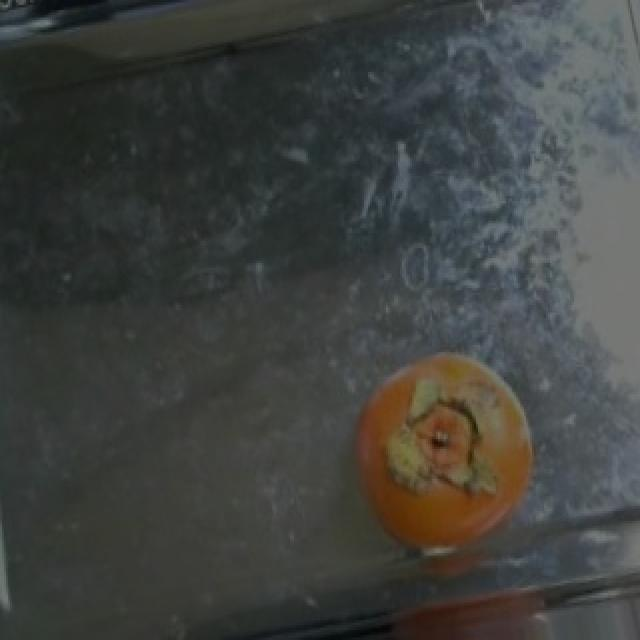Fruit: (332, 335, 556, 573)
